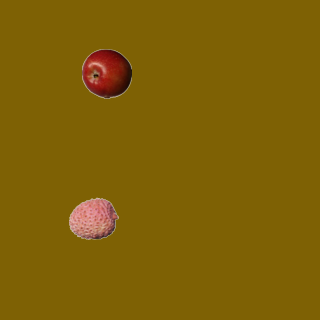Apple Braeburn: (81, 48, 131, 98)
Lychee: (68, 193, 118, 243)
